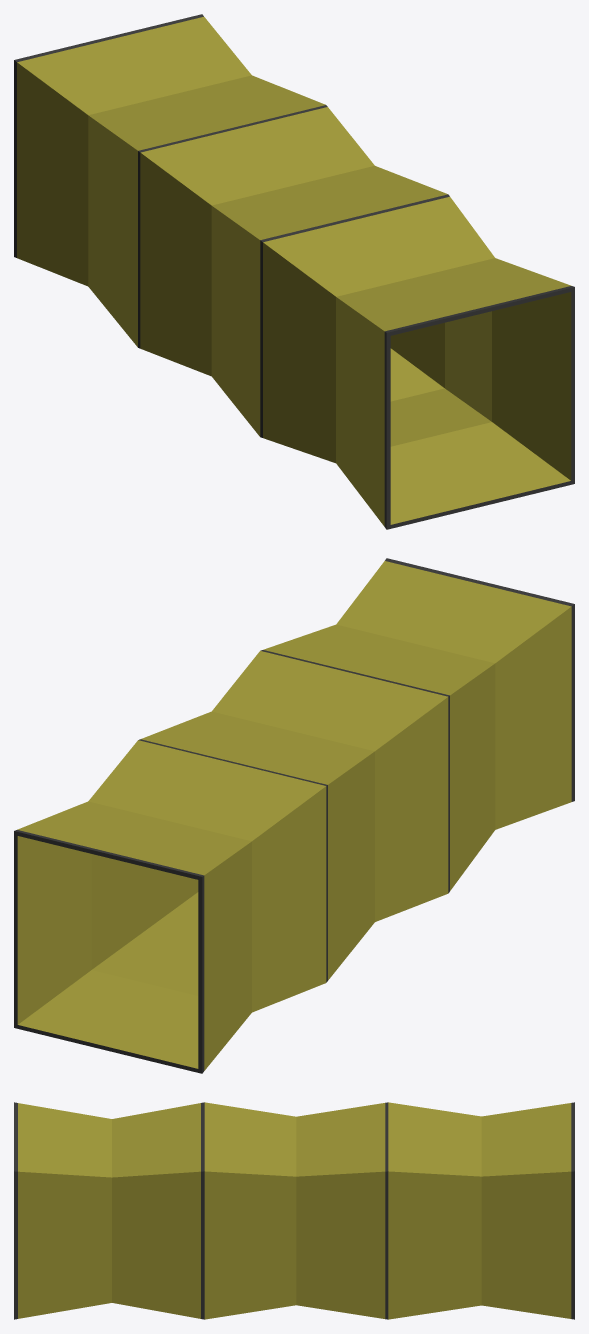
The model's file is haz_tent_1.fbx.
The picture shows the model from 3 angles, top to bottom: view 1: azimuth 30°, elevation 25°; view 2: azimuth 150°, elevation 25°; view 3: azimuth 270°, elevation 25°; orthographic projection. The views are drawn at different scales.
Visible parts, largest first — view 1: haz_tent_1; view 2: haz_tent_1; view 3: haz_tent_1.
Part boxes in pixels (x1=…): haz_tent_1: x1=14, y1=14, x2=574, y2=529; haz_tent_1: x1=14, y1=558, x2=574, y2=1073; haz_tent_1: x1=14, y1=1102, x2=574, y2=1319.
Bounding box in the file's own units: 4.17 × 4.17 × 14.3.
